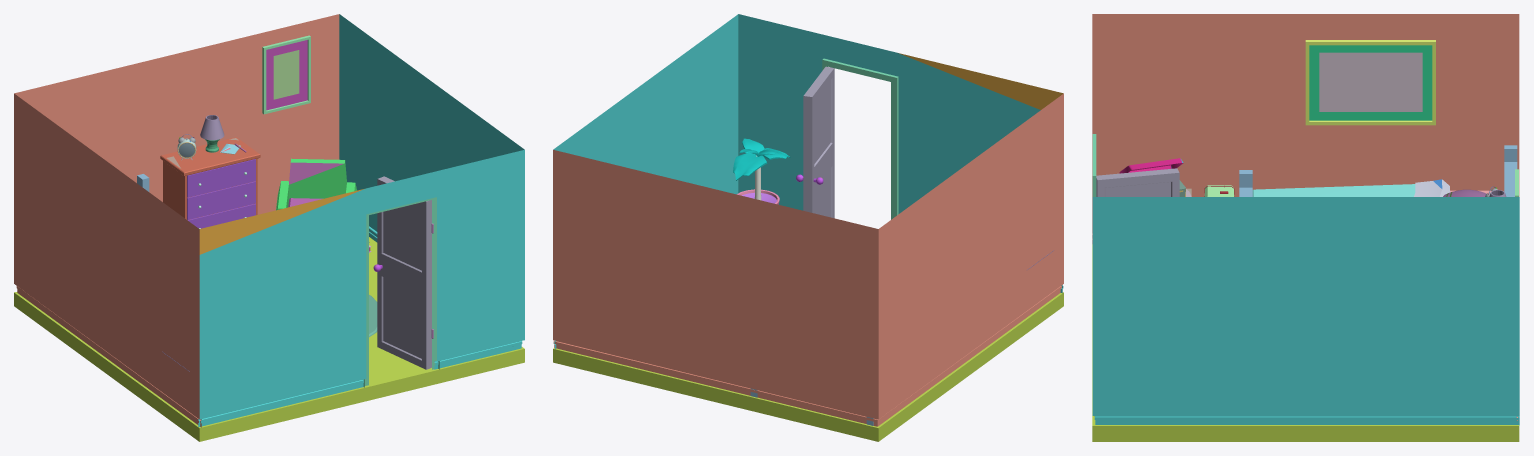
Rendered from Room.fbx.
3 views of the same model, side by side, from view 1: azimuth 30°, elevation 25°; view 2: azimuth 150°, elevation 25°; view 3: azimuth 270°, elevation 25° (orthographic). The views are drawn at different scales.
Parts seen in each view (by area): view 1: 005-0-5, 003-0-3, 004-0-4, 098-0-98, 001-0-1, 000-0-0, 013-0-13, 015-0-15, 007-0-7, 008-0-8, 006-0-6; view 2: 003-0-3, 005-0-5, 004-0-4, 098-0-98, 015-0-15, 093-0-93; view 3: 005-0-5, 003-0-3, 004-0-4, 084-0-84, 085-0-85, 083-0-83, 098-0-98, 091-0-91, 087-0-87, 092-0-92, 046-0-46.
Boxes of the visible parts, x1,y1,x2,y2 form: 005-0-5: (198, 14, 524, 427); 003-0-3: (14, 14, 339, 427); 004-0-4: (14, 237, 524, 441); 098-0-98: (377, 176, 431, 369); 001-0-1: (187, 159, 255, 228); 000-0-0: (160, 137, 260, 220); 013-0-13: (276, 158, 356, 210); 015-0-15: (363, 197, 439, 387); 007-0-7: (266, 40, 307, 110); 008-0-8: (273, 50, 299, 99); 006-0-6: (262, 35, 310, 114); 003-0-3: (553, 93, 1063, 426); 005-0-5: (553, 14, 1063, 348); 004-0-4: (553, 292, 1063, 441); 098-0-98: (803, 66, 834, 218); 015-0-15: (822, 58, 898, 219); 093-0-93: (733, 138, 790, 180); 005-0-5: (1092, 197, 1519, 425); 003-0-3: (1092, 14, 1519, 420); 004-0-4: (1092, 244, 1519, 441); 084-0-84: (1319, 52, 1422, 111); 085-0-85: (1309, 45, 1432, 120); 083-0-83: (1305, 40, 1435, 125); 098-0-98: (1096, 168, 1179, 196); 091-0-91: (1252, 184, 1415, 196); 087-0-87: (1239, 145, 1517, 196); 092-0-92: (1414, 179, 1450, 196); 046-0-46: (1119, 158, 1183, 173).
Size of the model in its own units: 402 by 251 by 397.
